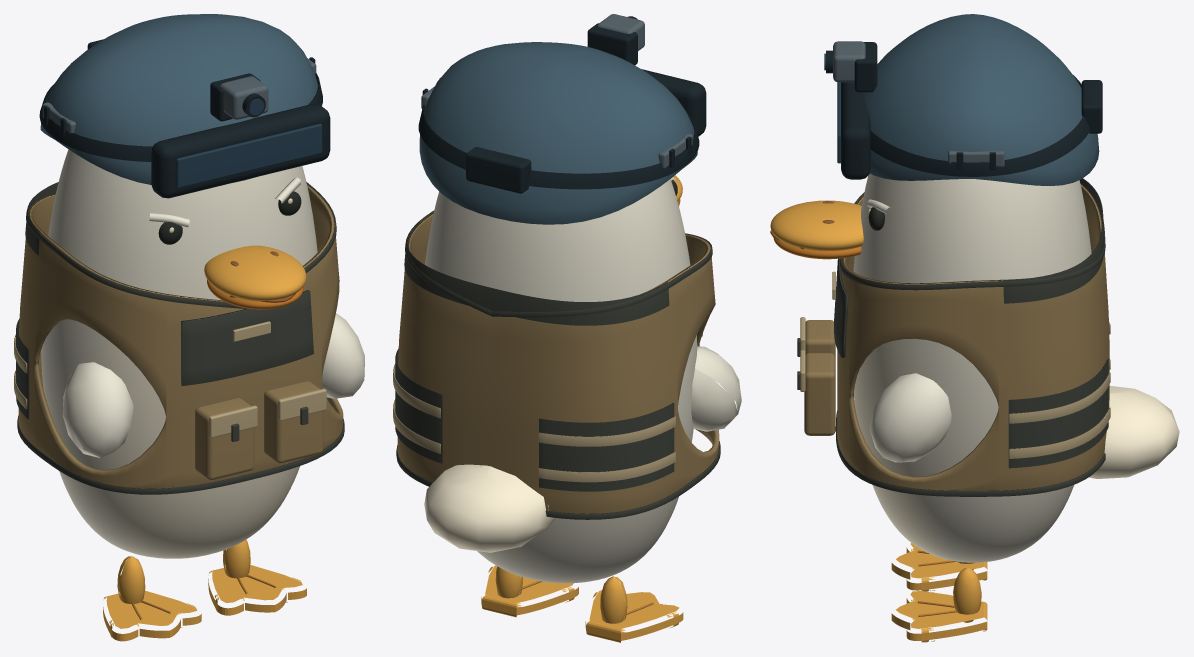
File: goose-heavy-outfit.glb
3 views of the same model, side by side, from view 1: azimuth 30°, elevation 25°; view 2: azimuth 150°, elevation 25°; view 3: azimuth 270°, elevation 25° (orthographic).
Visible parts, largest first — view 1: goose_vest_heavy_mesh, goose_torso_mesh, goose_helmet_heavy_mesh, goose_leftArm_mesh, goose_beak_mesh, goose_leftFoot_mesh, goose_rightFoot_mesh, goose_rightArm_mesh; view 2: goose_vest_heavy_mesh, goose_helmet_heavy_mesh, goose_torso_mesh, goose_tail_mesh, goose_leftFoot_mesh, goose_leftArm_mesh, goose_rightFoot_mesh; view 3: goose_vest_heavy_mesh, goose_torso_mesh, goose_helmet_heavy_mesh, goose_rightArm_mesh, goose_tail_mesh, goose_beak_mesh, goose_rightFoot_mesh, goose_leftFoot_mesh.
Boxes of the visible parts, x1,y1,x2,y2 form: goose_vest_heavy_mesh: (14, 182, 344, 494); goose_torso_mesh: (41, 149, 317, 558); goose_helmet_heavy_mesh: (39, 14, 330, 198); goose_leftArm_mesh: (62, 362, 133, 457); goose_beak_mesh: (204, 245, 306, 309); goose_leftFoot_mesh: (103, 556, 201, 641); goose_rightFoot_mesh: (208, 539, 306, 615); goose_rightArm_mesh: (321, 313, 364, 398); goose_vest_heavy_mesh: (393, 210, 720, 519); goose_helmet_heavy_mesh: (418, 14, 706, 224); goose_torso_mesh: (425, 179, 697, 583); goose_tail_mesh: (424, 464, 554, 552); goose_leftFoot_mesh: (585, 576, 683, 642); goose_leftArm_mesh: (691, 346, 741, 431); goose_rightFoot_mesh: (481, 565, 578, 617); goose_vest_heavy_mesh: (797, 178, 1110, 496); goose_torso_mesh: (853, 173, 1091, 562); goose_helmet_heavy_mesh: (824, 14, 1102, 185); goose_rightArm_mesh: (869, 373, 951, 462); goose_tail_mesh: (1088, 386, 1179, 478); goose_beak_mesh: (770, 200, 863, 259); goose_rightFoot_mesh: (891, 568, 987, 642); goose_leftFoot_mesh: (891, 543, 987, 591).
Size of the model in its own units: 1.1 by 2.07 by 1.37.
